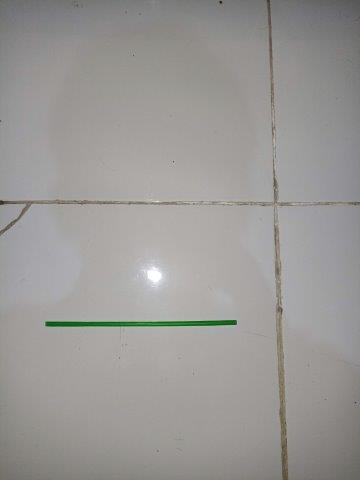sedotan: (45, 319, 237, 327)
